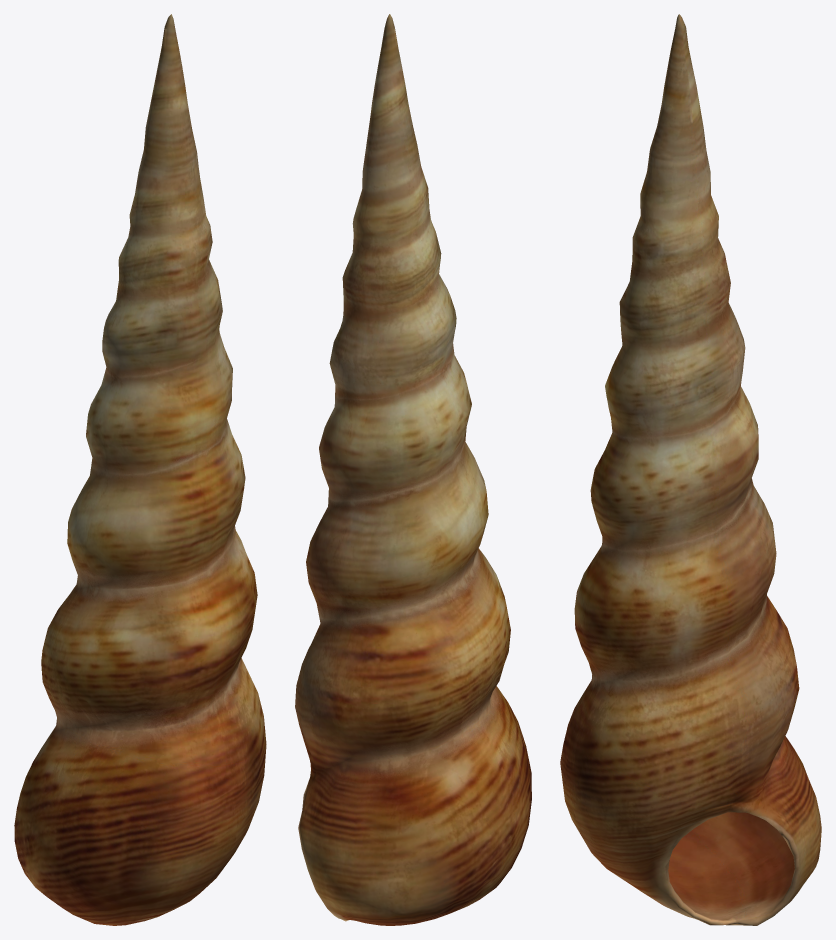
The model's file is seashell.glb.
3 renders of one model, left to right at view 1: azimuth 30°, elevation 25°; view 2: azimuth 150°, elevation 25°; view 3: azimuth 270°, elevation 25°, orthographic. The views are drawn at different scales.
Parts seen in each view (by area): view 1: OBJ_TurretShell; view 2: OBJ_TurretShell; view 3: OBJ_TurretShell.
Boxes of the visible parts, x1,y1,x2,y2 form: OBJ_TurretShell: (14, 14, 266, 925); OBJ_TurretShell: (295, 14, 531, 925); OBJ_TurretShell: (560, 14, 821, 925).
Bounding box in the file's own units: 0.0327 × 0.1329 × 0.0346.
1 material, 1 textured.
